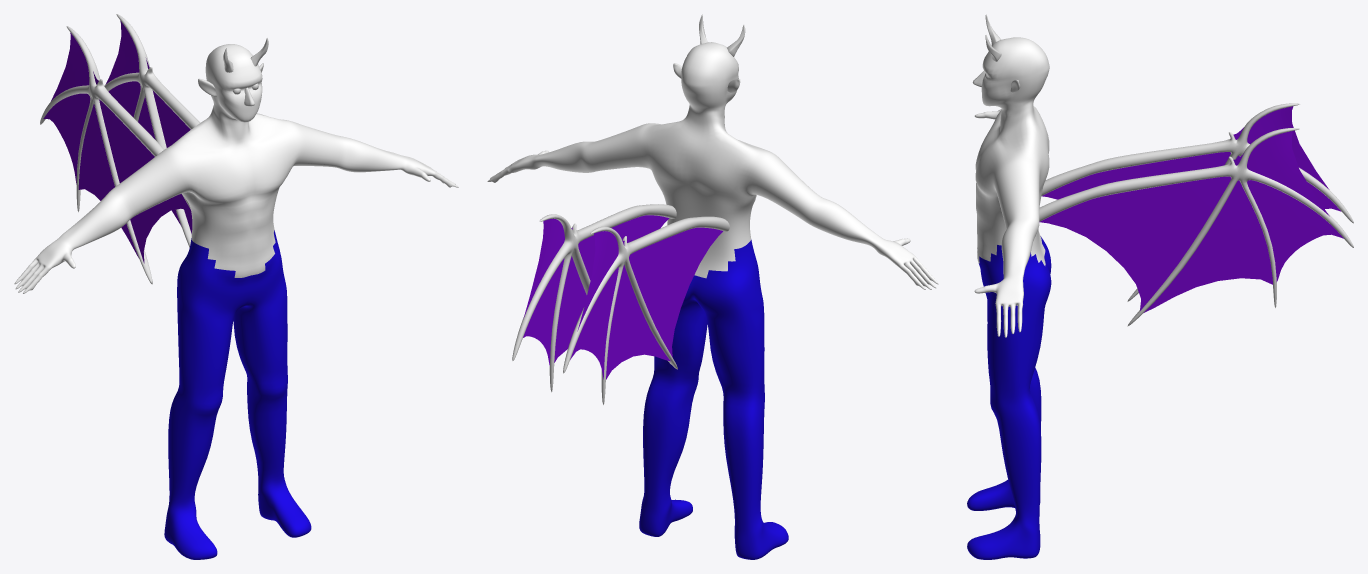
File: OrionEnemyOneV2.fbx
3 views of the same model, side by side, from view 1: azimuth 30°, elevation 25°; view 2: azimuth 150°, elevation 25°; view 3: azimuth 270°, elevation 25° (orthographic).
Parts seen in each view (by area): view 1: orionbase, wingskin, wingbone; view 2: orionbase, wingskin, wingbone; view 3: orionbase, wingskin, wingbone.
Boxes of the visible parts, x1,y1,x2,y2 form: orionbase: [14, 44, 458, 559]; wingskin: [43, 20, 192, 263]; wingbone: [40, 14, 200, 284]; orionbase: [487, 42, 938, 559]; wingskin: [523, 215, 723, 379]; wingbone: [512, 204, 729, 405]; orionbase: [967, 37, 1051, 559]; wingskin: [1039, 106, 1343, 312]; wingbone: [1039, 103, 1353, 326].
Bounding box in the file's own units: 1249 × 1365 × 943.
